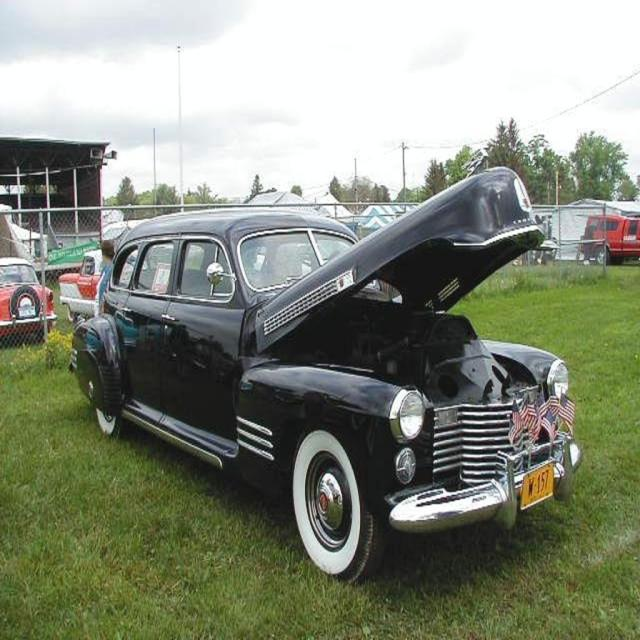car: (73, 164, 575, 587)
